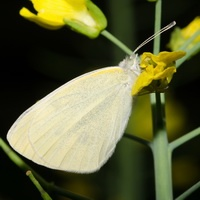insect: (7, 54, 139, 172)
